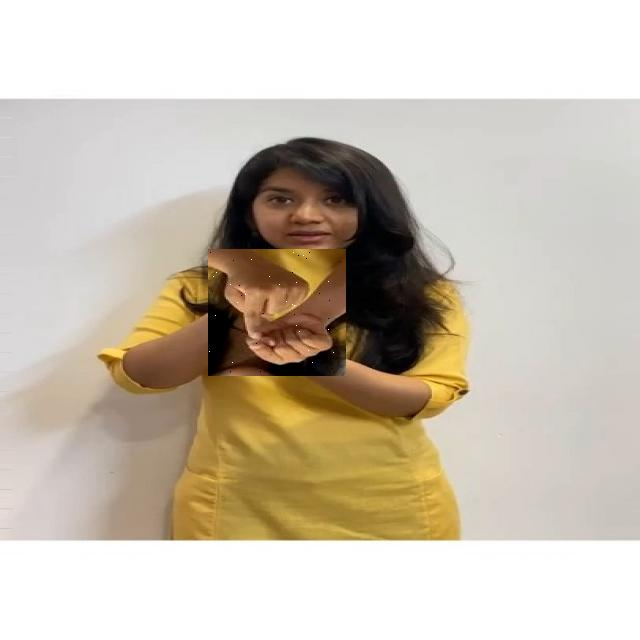I: (208, 249, 346, 376)
